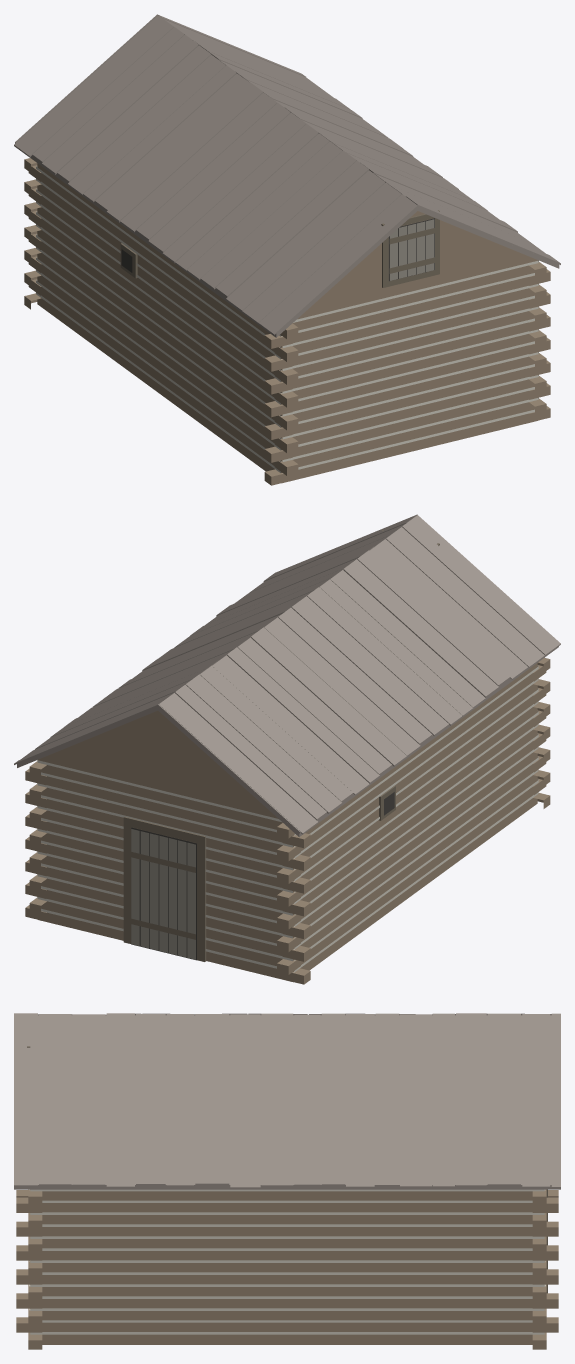
The model's file is recon_1835_blk_randolph_wells_a1_08__inferred_1835.glb.
3 views of the same model, one above another, from view 1: azimuth 30°, elevation 25°; view 2: azimuth 150°, elevation 25°; view 3: azimuth 270°, elevation 25° (orthographic). The views are drawn at different scales.
Visible parts, largest first — view 1: recon_1835_blk_randolph_wells_a1_08__inferred_1835; view 2: recon_1835_blk_randolph_wells_a1_08__inferred_1835; view 3: recon_1835_blk_randolph_wells_a1_08__inferred_1835.
Boxes of the visible parts, <box> form: recon_1835_blk_randolph_wells_a1_08__inferred_1835: <box>14,14,560,485</box>; recon_1835_blk_randolph_wells_a1_08__inferred_1835: <box>14,514,560,984</box>; recon_1835_blk_randolph_wells_a1_08__inferred_1835: <box>14,1013,560,1349</box>.
Bounding box in the file's own units: 5.92 × 4.96 × 9.25.
1 material, 1 textured.
